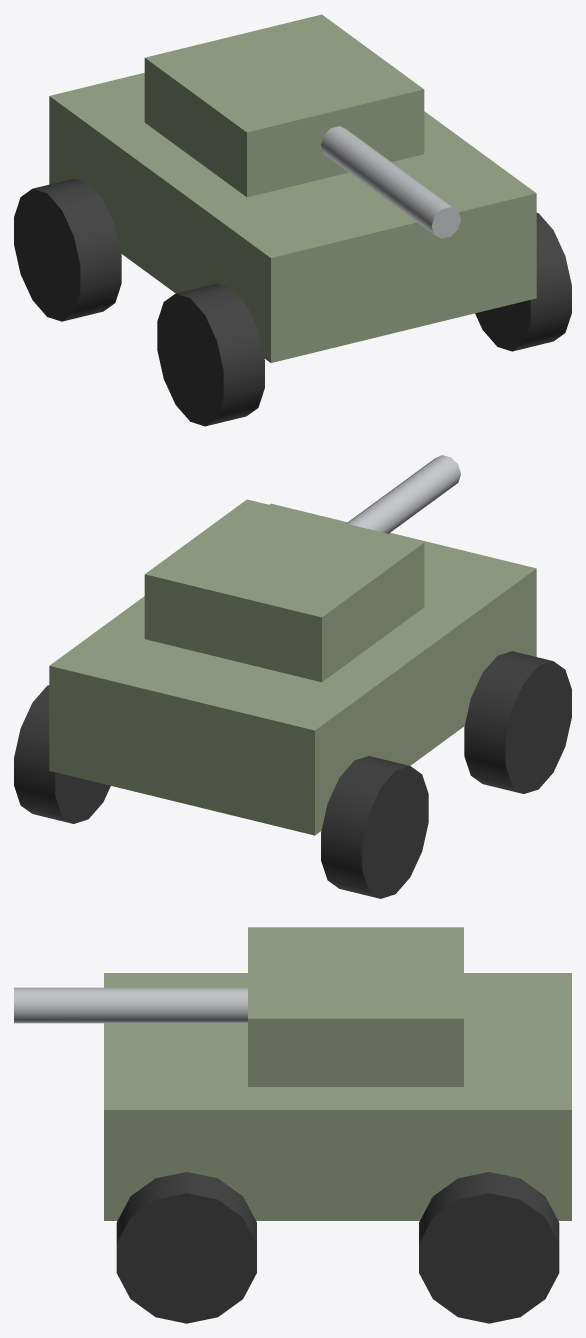
Rendered from tank.glb.
3 views of the same model, one above another, from view 1: azimuth 30°, elevation 25°; view 2: azimuth 150°, elevation 25°; view 3: azimuth 270°, elevation 25° (orthographic). The views are drawn at different scales.
Parts seen in each view (by area): view 1: Hull, Turret, Wheel3, Wheel1, Wheel0, Barrel; view 2: Hull, Turret, Wheel3, Wheel1, Wheel2, Barrel; view 3: Hull, Turret, Wheel0, Wheel2, Barrel.
Part boxes in pixels (left/top/right/bottom): Hull: left=49, top=72, right=536, bottom=362; Turret: left=144, top=14, right=424, bottom=197; Wheel3: left=14, top=178, right=121, bottom=321; Wheel1: left=157, top=283, right=264, bottom=426; Wheel0: left=475, top=213, right=571, bottom=351; Barrel: left=321, top=126, right=460, bottom=238; Hull: left=49, top=503, right=536, bottom=835; Turret: left=144, top=499, right=424, bottom=682; Wheel3: left=321, top=756, right=428, bottom=898; Wheel1: left=464, top=651, right=571, bottom=793; Wheel2: left=14, top=685, right=110, bottom=823; Barrel: left=346, top=455, right=460, bottom=533; Hull: left=104, top=973, right=571, bottom=1220; Turret: left=248, top=927, right=463, bottom=1086; Wheel0: left=116, top=1172, right=256, bottom=1323; Wheel2: left=419, top=1172, right=559, bottom=1323; Barrel: left=14, top=987, right=247, bottom=1023.
Bounding box in the file's own units: 1.18 × 0.8 × 1.55.
